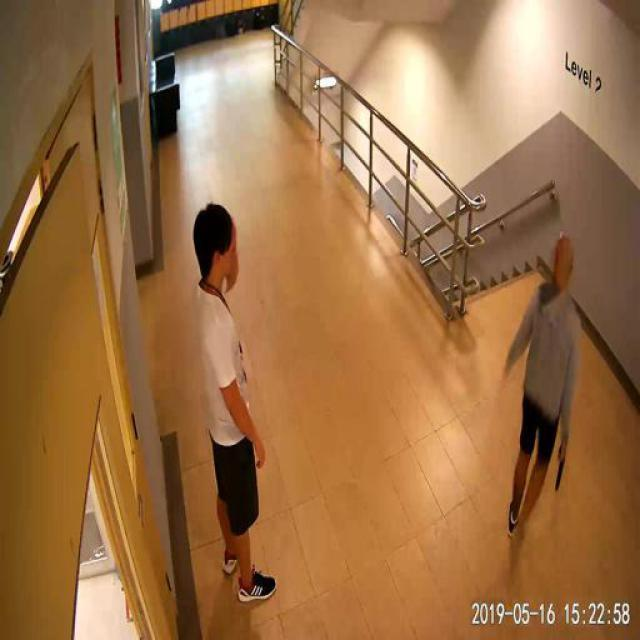weapon: (552, 441, 570, 496)
